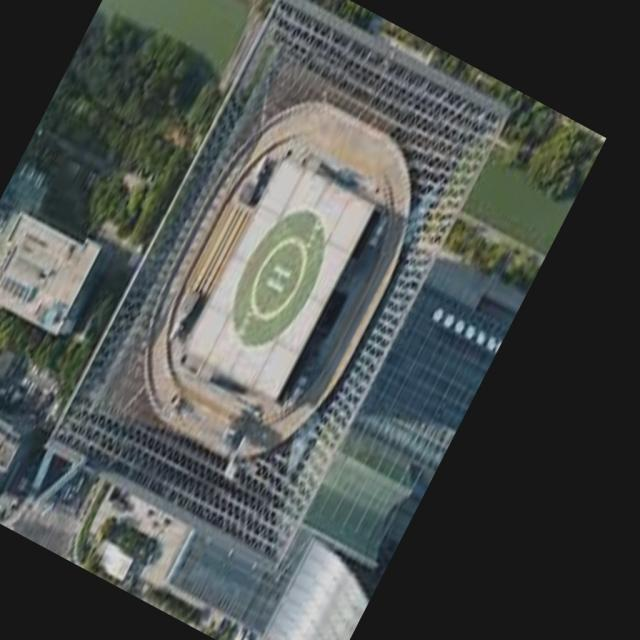helipad: (245, 233, 313, 324)
